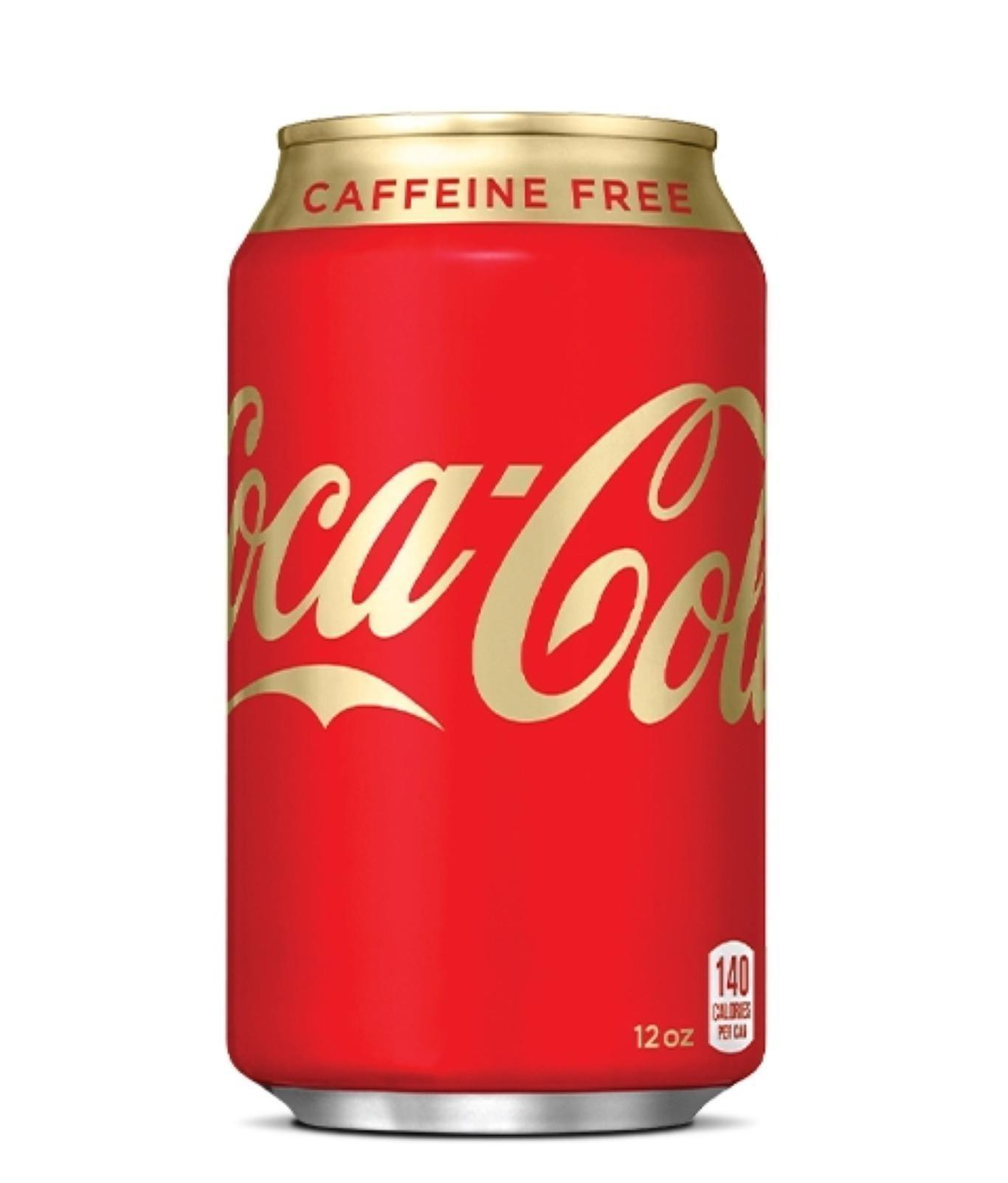tin can: (221, 111, 774, 1142)
